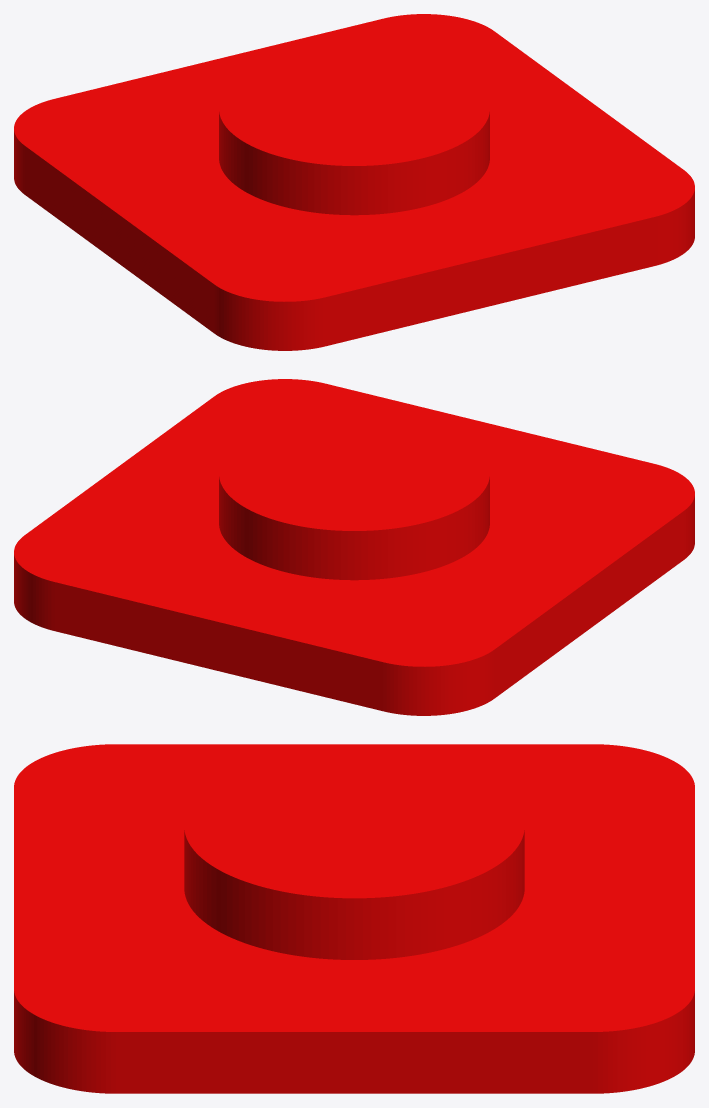
3 views of the same model, one above another, from view 1: azimuth 30°, elevation 25°; view 2: azimuth 150°, elevation 25°; view 3: azimuth 270°, elevation 25° (orthographic). The views are drawn at different scales.
Parts seen in each view (by area): view 1: node0; view 2: node0; view 3: node0.
Part boxes in pixels (left/top/right/bottom): node0: left=14, top=14, right=694, bottom=350; node0: left=14, top=379, right=694, bottom=715; node0: left=14, top=744, right=694, bottom=1093.
Size of the model in its own units: 0.8 by 0.8 by 0.16.
